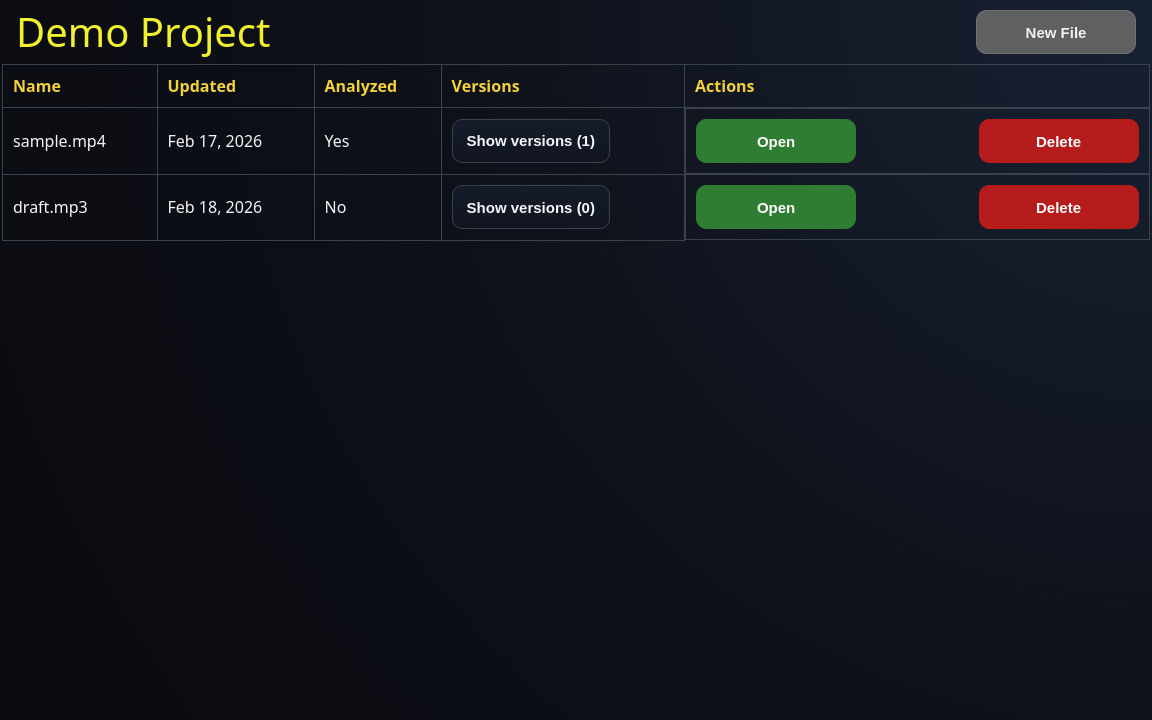
it: FilesPage › deletes file and its analysis versions
Expected: the row named "file-row-file-1" is shown, [2,108,1150,174]
Expected: the text "sample.mp4" is shown, [2,108,157,174]
Click the button with aria-label "delete-file-file-1" at (1058, 141), box [978,119,1138,163]
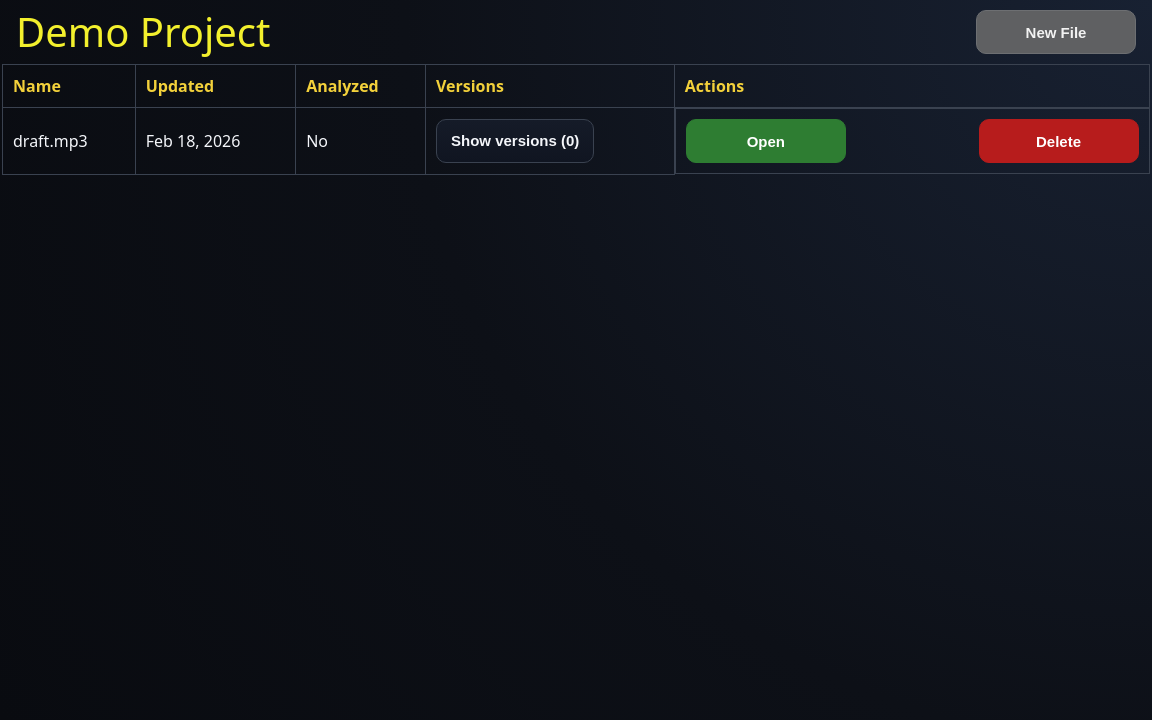
Now the row labelled "file-row-file-1" is gone
Now the text "sample.mp4" is gone
